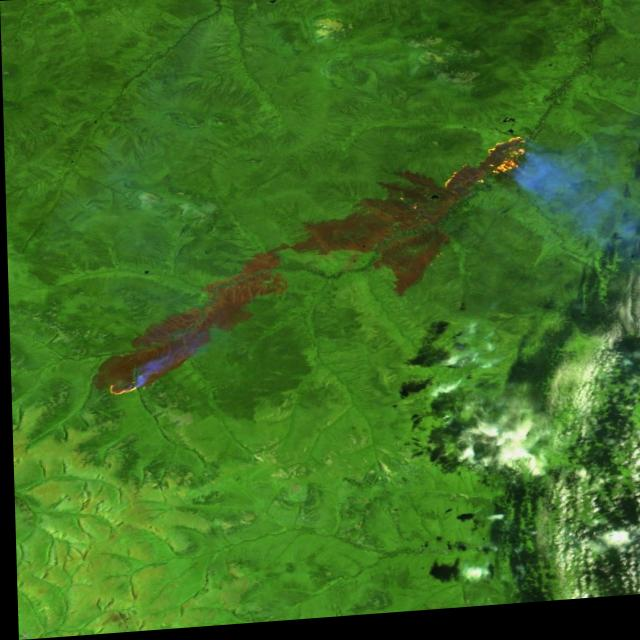fire: (436, 144, 534, 200), (97, 367, 149, 404)
